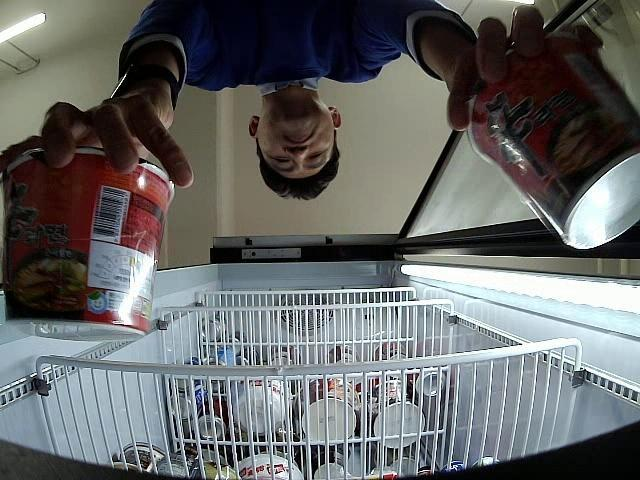01_ShinRamen_L: (468, 31, 640, 249), (0, 146, 176, 342)
